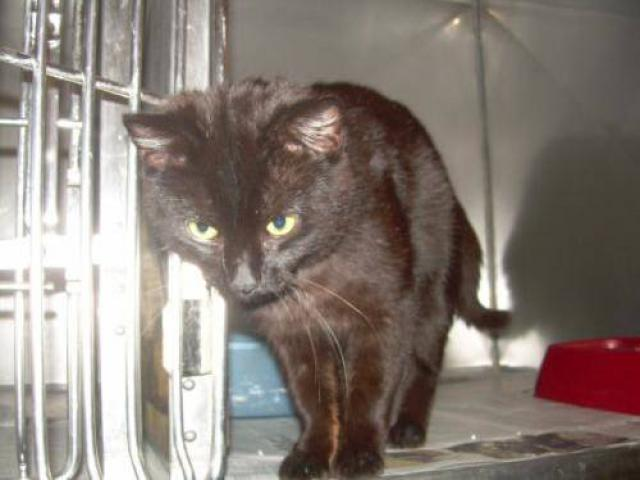cat: (142, 71, 507, 475)
